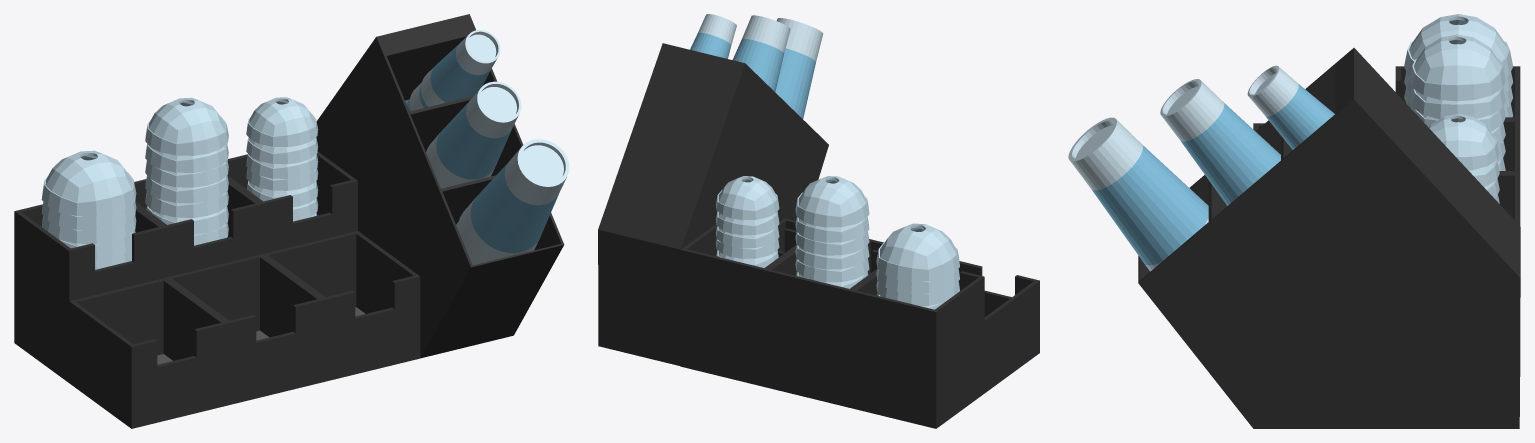
Rendered from Cup Dispensor #1.fbx.
3 renders of one model, left to right at view 1: azimuth 30°, elevation 25°; view 2: azimuth 150°, elevation 25°; view 3: azimuth 270°, elevation 25°, orthographic. The views are drawn at different scales.
Parts seen in each view (by area): view 1: Cup Dispensor #1; view 2: Cup Dispensor #1; view 3: Cup Dispensor #1.
Part boxes in pixels (bbox=[...]): Cup Dispensor #1: bbox=[14, 14, 569, 428]; Cup Dispensor #1: bbox=[598, 14, 1039, 428]; Cup Dispensor #1: bbox=[1068, 14, 1520, 428].
Bounding box in the file's own units: 106 × 80.3 × 95.15.
1 material, 1 textured.
